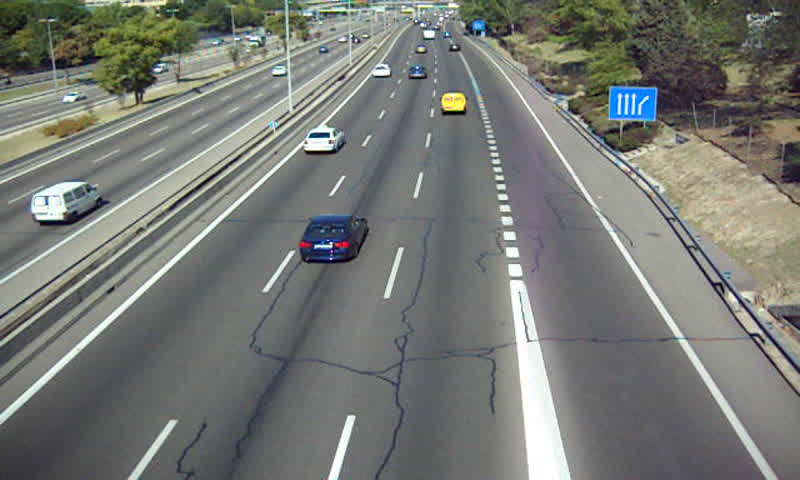car: (300, 213, 368, 263), (302, 128, 345, 153), (371, 64, 392, 79), (407, 65, 426, 80)
van: (441, 93, 468, 115)
